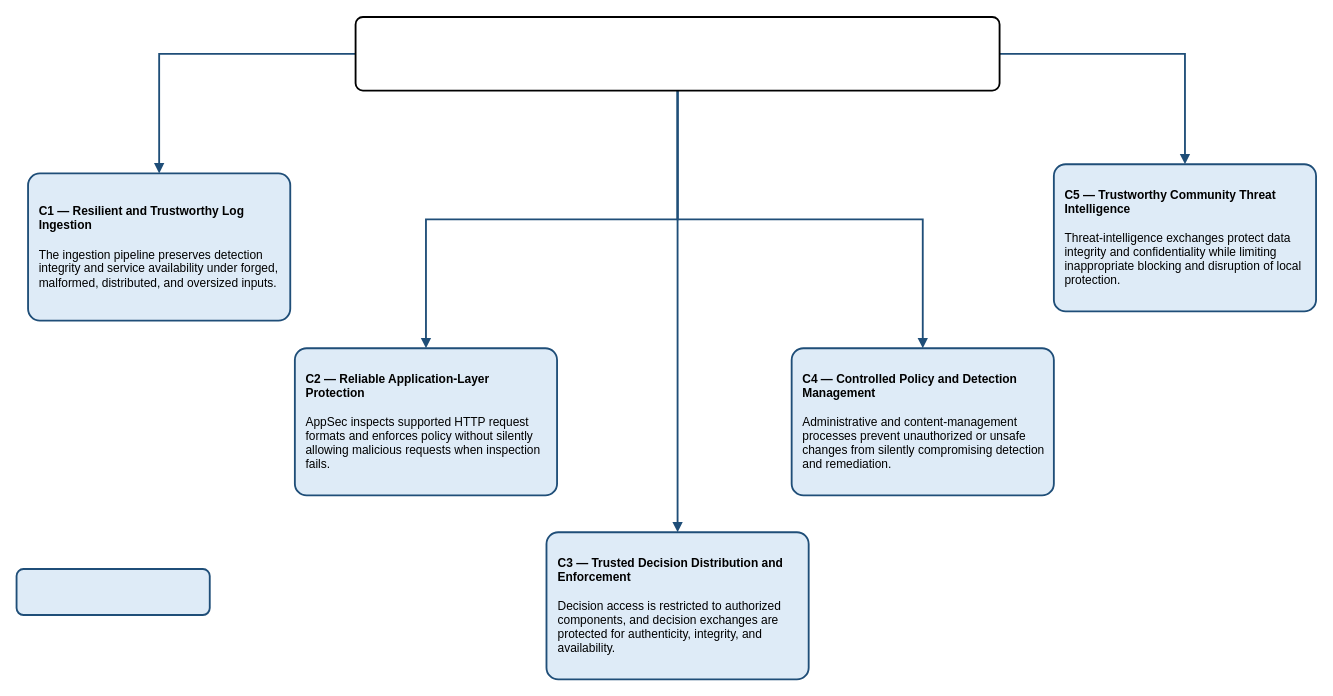
The diagram is 1333 pixels wide and 696 high, and some of its shapes have lost their labels. The centre of each missing label's shape, as x and y in pixels:
"CrowdSec - Software Assurance Five Top Level Assurance Claims" belongs at [677,53].
"Top-level claim" belongs at [112,591].
